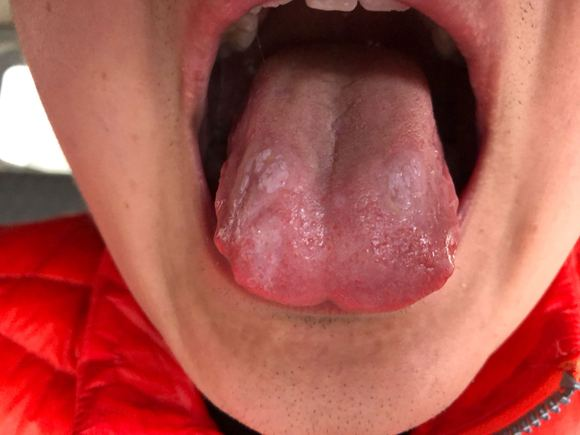chihenshe: (215, 136, 243, 274), (442, 178, 460, 286)
hongshe: (214, 44, 460, 310)
huangtaishe: (214, 44, 460, 310)
liewenshe: (324, 77, 359, 200)
xinfeiao: (290, 281, 368, 310)
